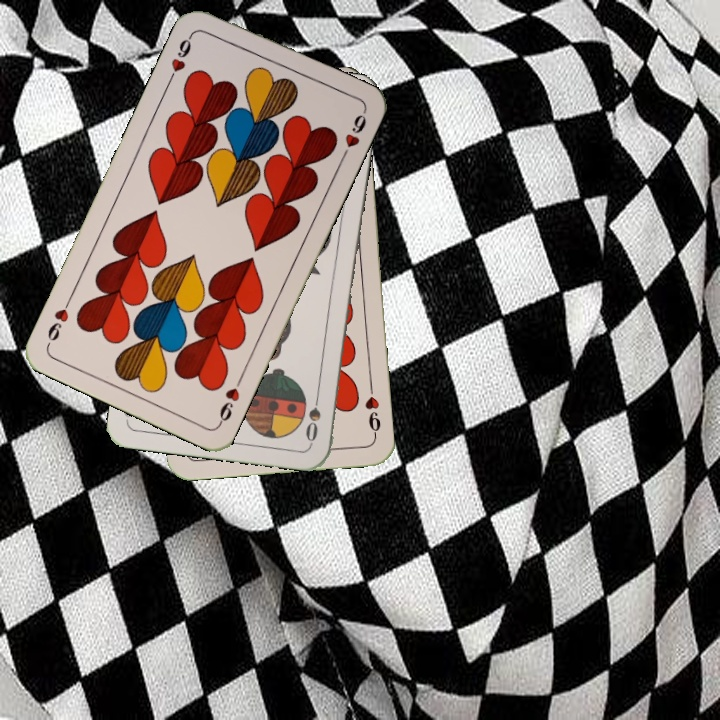H9: (164, 29, 196, 84), (214, 372, 245, 428), (361, 380, 384, 440)
SO: (301, 386, 324, 445)
